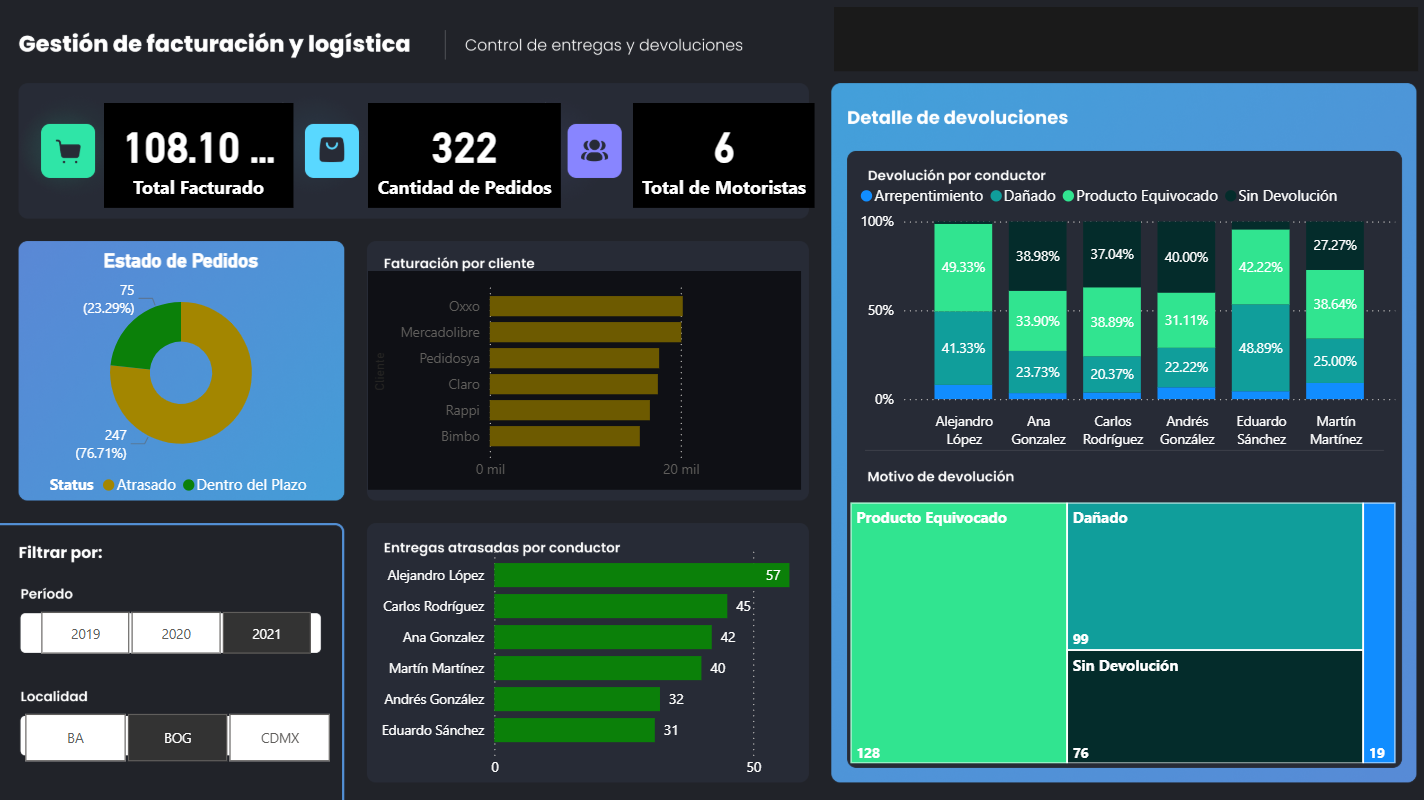

The dashboard page shown, as its layout file describes it:
{"tool":"powerbi","page":{"name":"Página 1","canvas":[1280,720],"ordinal":0},"visuals":[{"type":"card","fields":{"Values":["Sum(Logistica.USD$ Faturados)"]},"box":[95.8,95.8,167.6,93.1],"z":0},{"type":"card","fields":{"Values":["Count(Logistica.Nº Pedido)"]},"box":[329.9,95.8,171.1,93.1],"z":1000},{"type":"card","fields":{"Values":["Count(Logistica.Motorista)"]},"box":[564.8,95.8,161.4,93.1],"z":2000},{"type":"clusteredBarChart","title":"Facturacion por cliente","fields":{"Category":["Logistica.Cliente"],"Y":["Sum(Logistica.USD$ Faturados)"]},"box":[329.9,244.7,383.9,194.2],"z":3000},{"type":"donutChart","title":"Estado de Pedidos","fields":{"Category":["Logistica.Status"],"Y":["CountNonNull(Logistica.Nº Pedido)"]},"box":[24.8,225.2,278.4,227.9],"z":4000},{"type":"clusteredBarChart","title":"Total Pedidos(Atrasados)","fields":{"Category":["Logistica.Motorista"],"Y":["CountNonNull(Logistica.Nº Pedido)"]},"box":[329.9,479.7,406.1,223.4],"z":5000},{"type":"treemap","fields":{"Group":["Logistica.Motivo de Devolución"],"Values":["CountNonNull(Logistica.Nº Pedido)"]},"box":[752.8,445.1,493,241.2],"z":6000},{"type":"hundredPercentStackedColumnChart","title":"Recuento  x Motorista","fields":{"Y":["CountNonNull(Logistica.Nº Pedido)"],"Category":["Logistica.Motorista"],"Series":["Logistica.Motivo de Devolución"]},"box":[760.8,157.8,485,251.8],"z":7000},{"type":"slicer","fields":{"Values":["Logistica.Fecha de Emisión del Pedido.Variación.Jerarquía de fechas.Año"]},"box":[14.2,540,289.1,51.4],"z":8000},{"type":"slicer","fields":{"Values":["Logistica.Destino"]},"box":[0,630.4,320.1,55.9],"z":9000},{"type":"textbox","box":[743.1,10.6,517.8,56.7],"z":10000}]}

Visuals, with their boxes in screenshot pixels (x1, y1, x2, y2), scaled from the page's 1280x720 canvas onto the 1424x800 screenshot:
card - Sum(Logistica.USD$ Faturados): l=107, t=106, r=293, b=210
card - Count(Logistica.Nº Pedido): l=367, t=106, r=557, b=210
card - Count(Logistica.Motorista): l=628, t=106, r=808, b=210
"Facturacion por cliente" clusteredBarChart: l=367, t=272, r=794, b=488
"Estado de Pedidos" donutChart: l=28, t=250, r=337, b=503
"Total Pedidos(Atrasados)" clusteredBarChart: l=367, t=533, r=819, b=781
treemap - Logistica.Motivo de Devolución x CountNonNull(Logistica.Nº Pedido): l=837, t=495, r=1386, b=763
"Recuento  x Motorista" hundredPercentStackedColumnChart: l=846, t=175, r=1386, b=455
slicer - Logistica.Fecha de Emisión del Pedido.Variación.Jerarquía de fechas.Año: l=16, t=600, r=337, b=657
slicer - Logistica.Destino: l=0, t=700, r=356, b=763
textbox: l=827, t=12, r=1403, b=75
